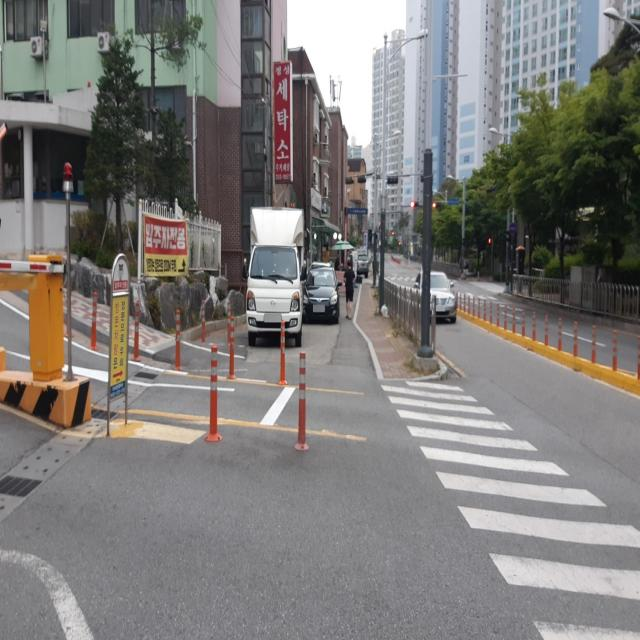횡단보도: (378, 375, 640, 640)
